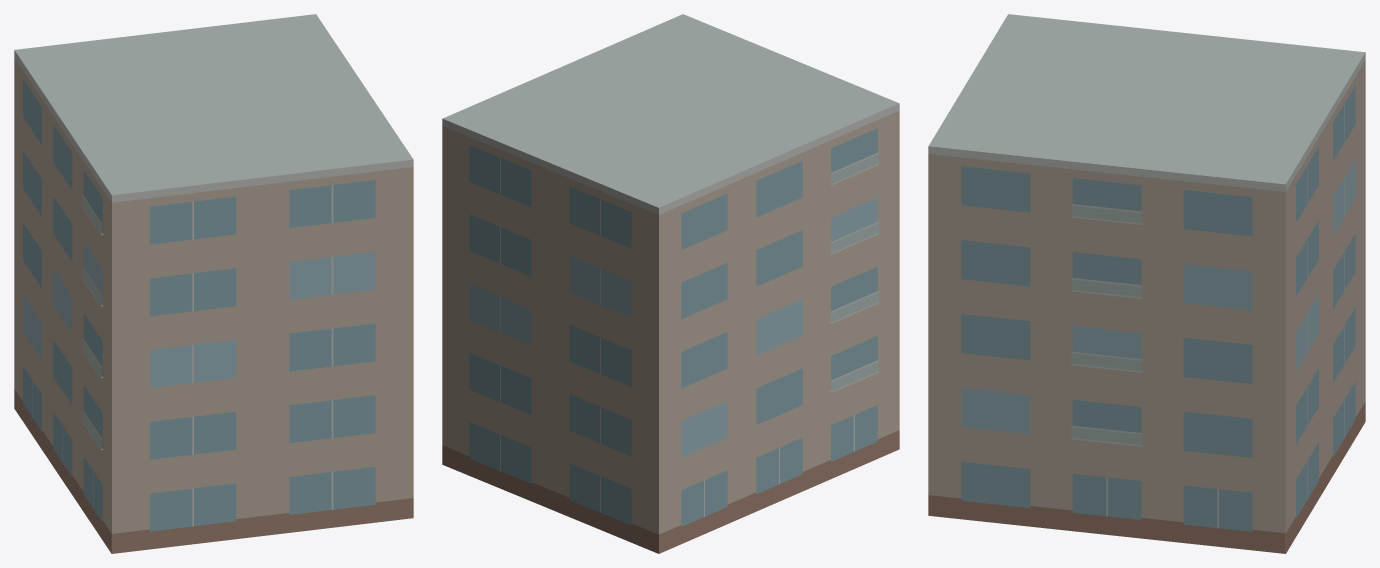
The model's file is survey-upis-32916756.glb.
3 views of the same model, side by side, from view 1: azimuth 30°, elevation 25°; view 2: azimuth 150°, elevation 25°; view 3: azimuth 270°, elevation 25° (orthographic). The views are drawn at different scales.
Visible parts, largest first — view 1: survey-upis-32916756.tmp; view 2: survey-upis-32916756.tmp; view 3: survey-upis-32916756.tmp.
Boxes of the visible parts, x1,y1,x2,y2 form: survey-upis-32916756.tmp: (14,14,413,553); survey-upis-32916756.tmp: (442,14,899,553); survey-upis-32916756.tmp: (928,14,1365,553).
Size of the model in its own units: 11.64 by 11.75 by 12.61.
